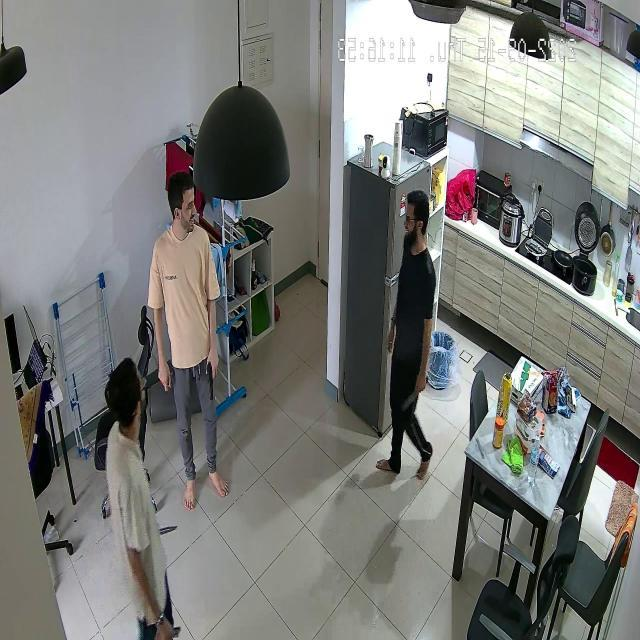Gun: (203, 354, 230, 404)
Knife: (399, 376, 431, 416)
